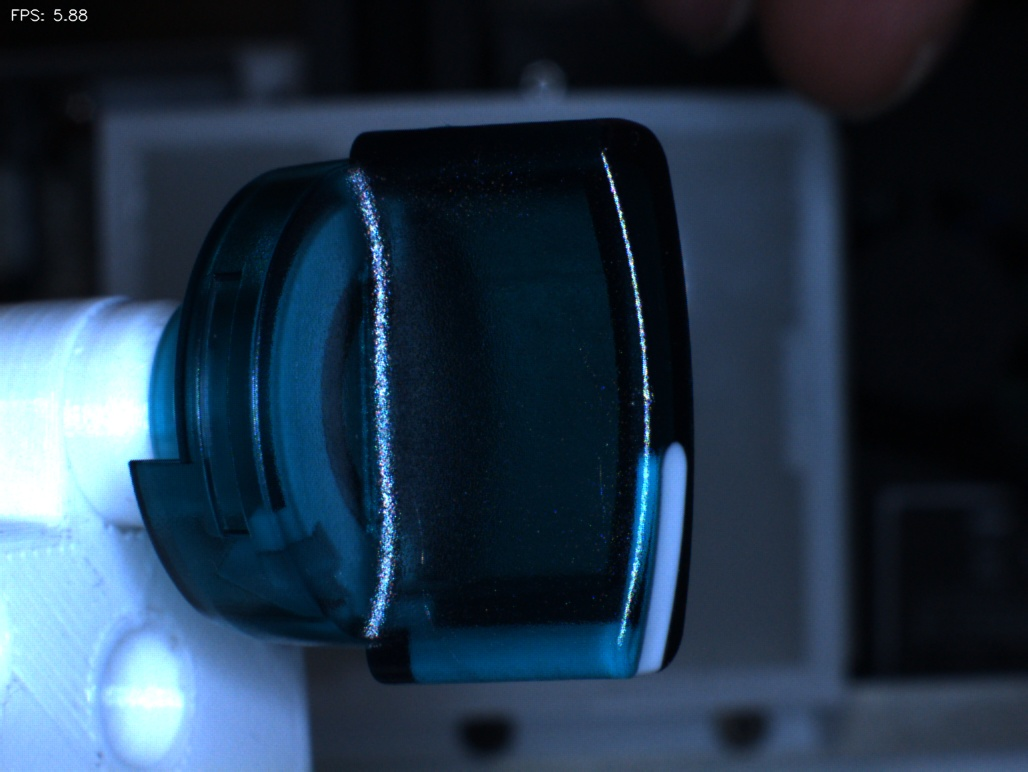Givrage: (398, 484, 466, 641), (574, 434, 628, 569)
